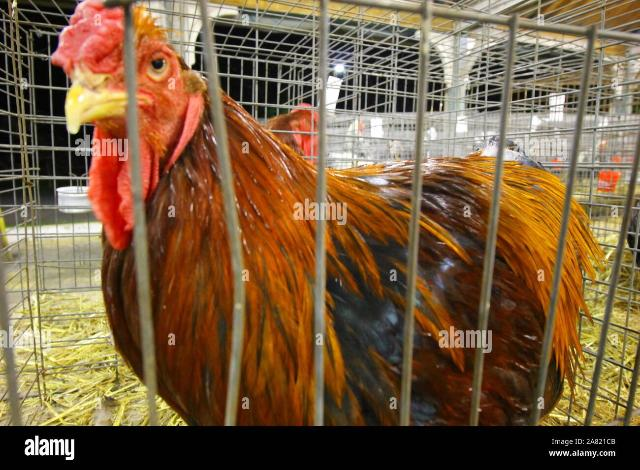Chicken: (52, 0, 607, 427)
